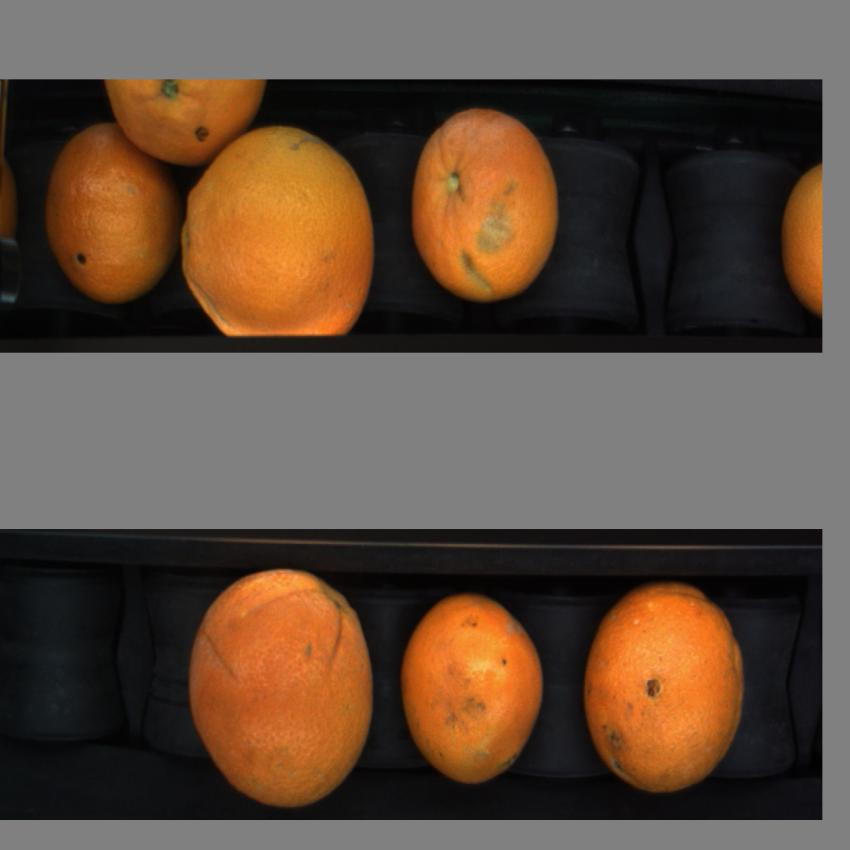Buen estado: (183, 566, 380, 815), (173, 122, 382, 349), (580, 577, 751, 801), (406, 98, 564, 309), (394, 591, 549, 790), (42, 122, 177, 308), (102, 76, 270, 171), (775, 160, 822, 326)
